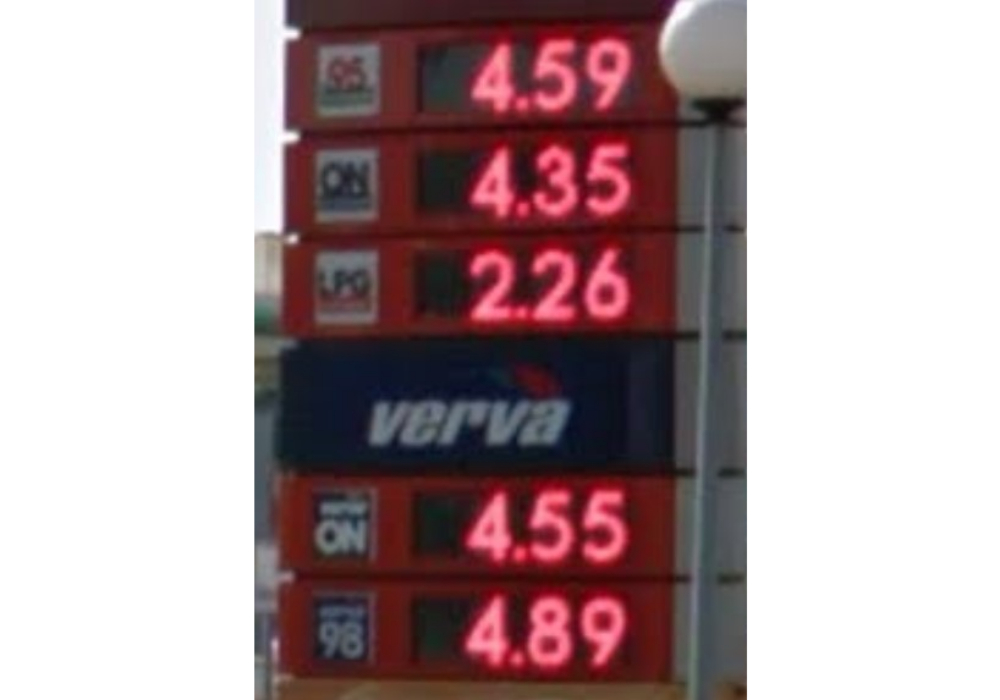LPG: (313, 249, 380, 324)
ON: (315, 146, 382, 225), (305, 488, 376, 562)
PB95: (316, 43, 380, 118)
PB98: (307, 586, 372, 667)
